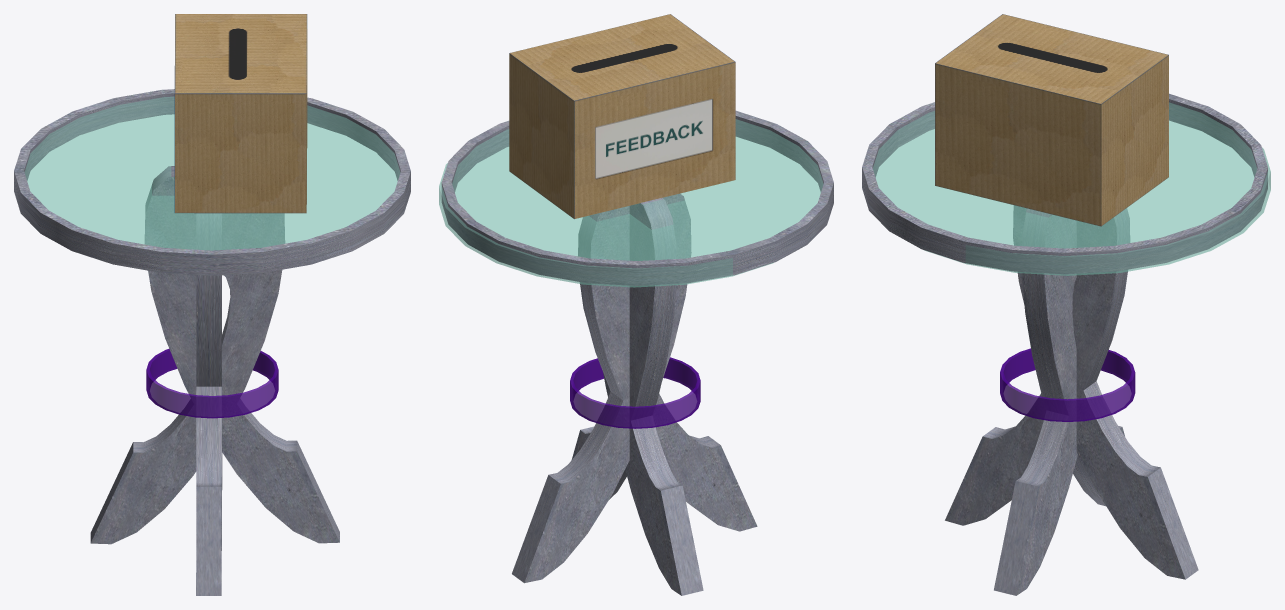
Rendered from Suggestion Box with Course Feedback Survey_155-109-023__3d4bf607-a9e2-4eb8-9441-5fe9b03d37a0.dae.
The picture shows the model from 3 angles, left to right: view 1: azimuth 30°, elevation 25°; view 2: azimuth 150°, elevation 25°; view 3: azimuth 270°, elevation 25°; orthographic projection. The views are drawn at different scales.
Parts seen in each view (by area): view 1: Primitive (×6), HighTopGlassTable, Suggestion Box with Course Feedback Survey; view 2: Primitive (×6), Suggestion Box with Course Feedback Survey, HighTopGlassTable; view 3: Primitive (×6), Suggestion Box with Course Feedback Survey, HighTopGlassTable.
Boxes of the visible parts, box(x1,y1,x2,y2) form: Primitive (×6): box(14, 89, 410, 595); HighTopGlassTable: box(25, 97, 399, 250); Suggestion Box with Course Feedback Survey: box(174, 14, 307, 213); Primitive (×6): box(441, 110, 833, 595); Suggestion Box with Course Feedback Survey: box(509, 14, 735, 218); HighTopGlassTable: box(439, 119, 823, 287); Primitive (×6): box(862, 93, 1267, 595); Suggestion Box with Course Feedback Survey: box(935, 14, 1168, 226); HighTopGlassTable: box(873, 102, 1270, 275).
Bounding box in the file's own units: 1.51 × 1.51 × 2.03.
